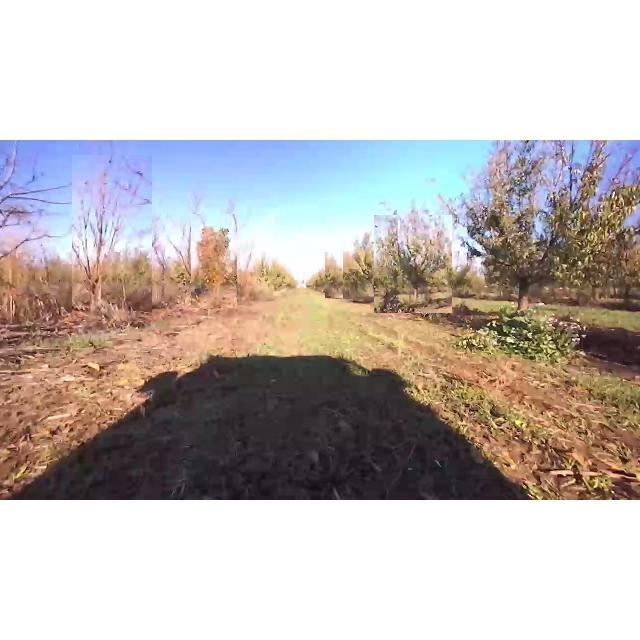direk: (428, 142, 638, 346), (72, 155, 152, 321), (374, 215, 452, 313), (191, 214, 237, 308), (342, 243, 382, 301), (325, 252, 343, 298)
